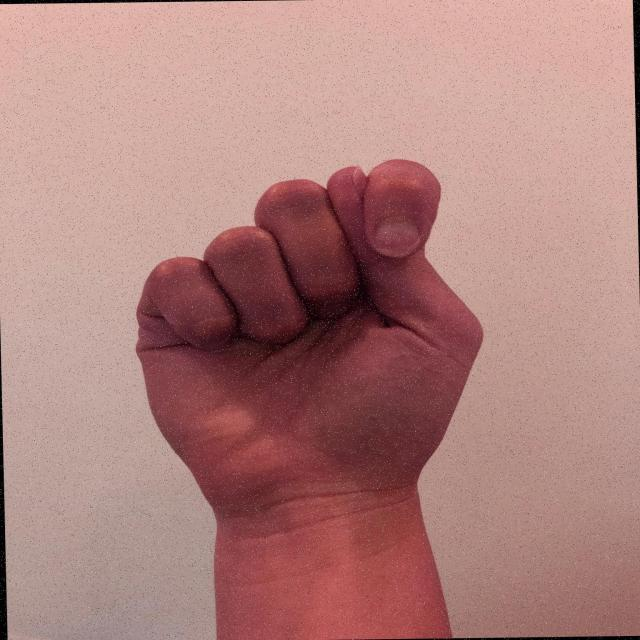T: (119, 150, 494, 532)
